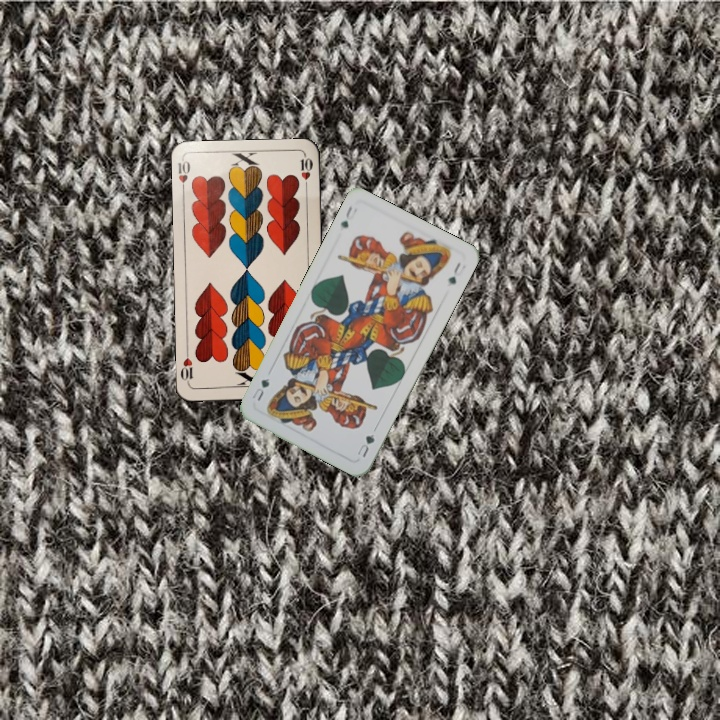GU: (353, 430, 377, 460), (336, 202, 360, 231)
H10: (174, 156, 193, 196)
